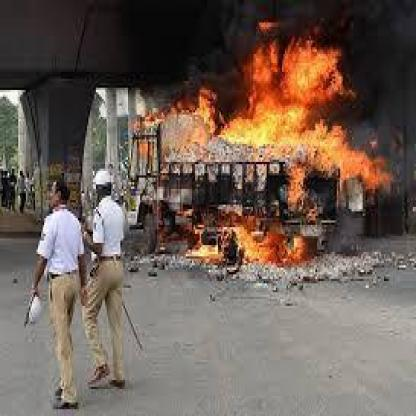fire: (217, 21, 389, 197), (160, 195, 337, 278), (127, 73, 215, 157)
smoke: (20, 0, 413, 88)
